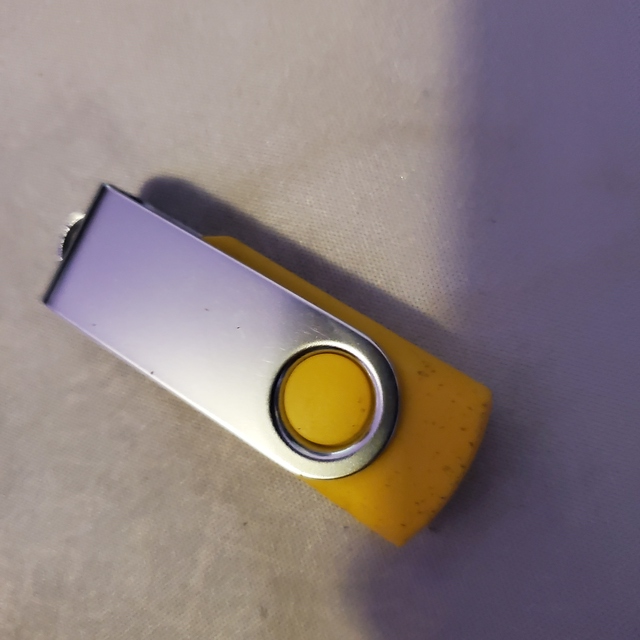usb_drive: (37, 173, 502, 557)
